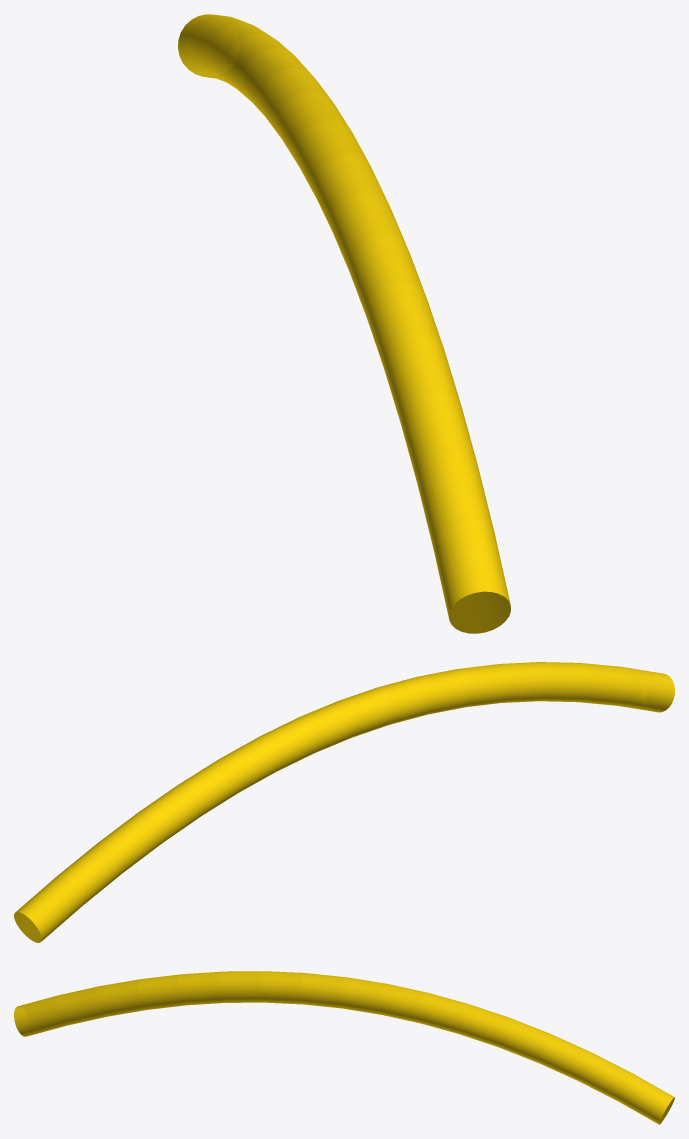
Rendered from Event_421278790_track_15.fbx.
The picture shows the model from 3 angles, top to bottom: view 1: azimuth 30°, elevation 25°; view 2: azimuth 150°, elevation 25°; view 3: azimuth 270°, elevation 25°; orthographic projection. The views are drawn at different scales.
Visible parts, largest first — view 1: Model; view 2: Model; view 3: Model.
Part boxes in pixels (box(x1,y1,x2,y2)): Model: box(178, 14, 510, 633); Model: box(14, 662, 674, 942); Model: box(14, 971, 674, 1124).
Size of the model in its own units: 0.311 by 0.1417 by 0.8362.
